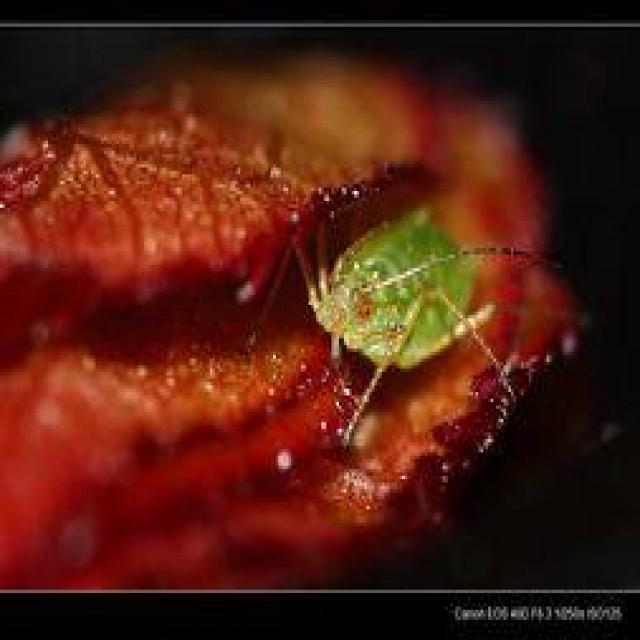Aphids: (275, 145, 586, 467)
